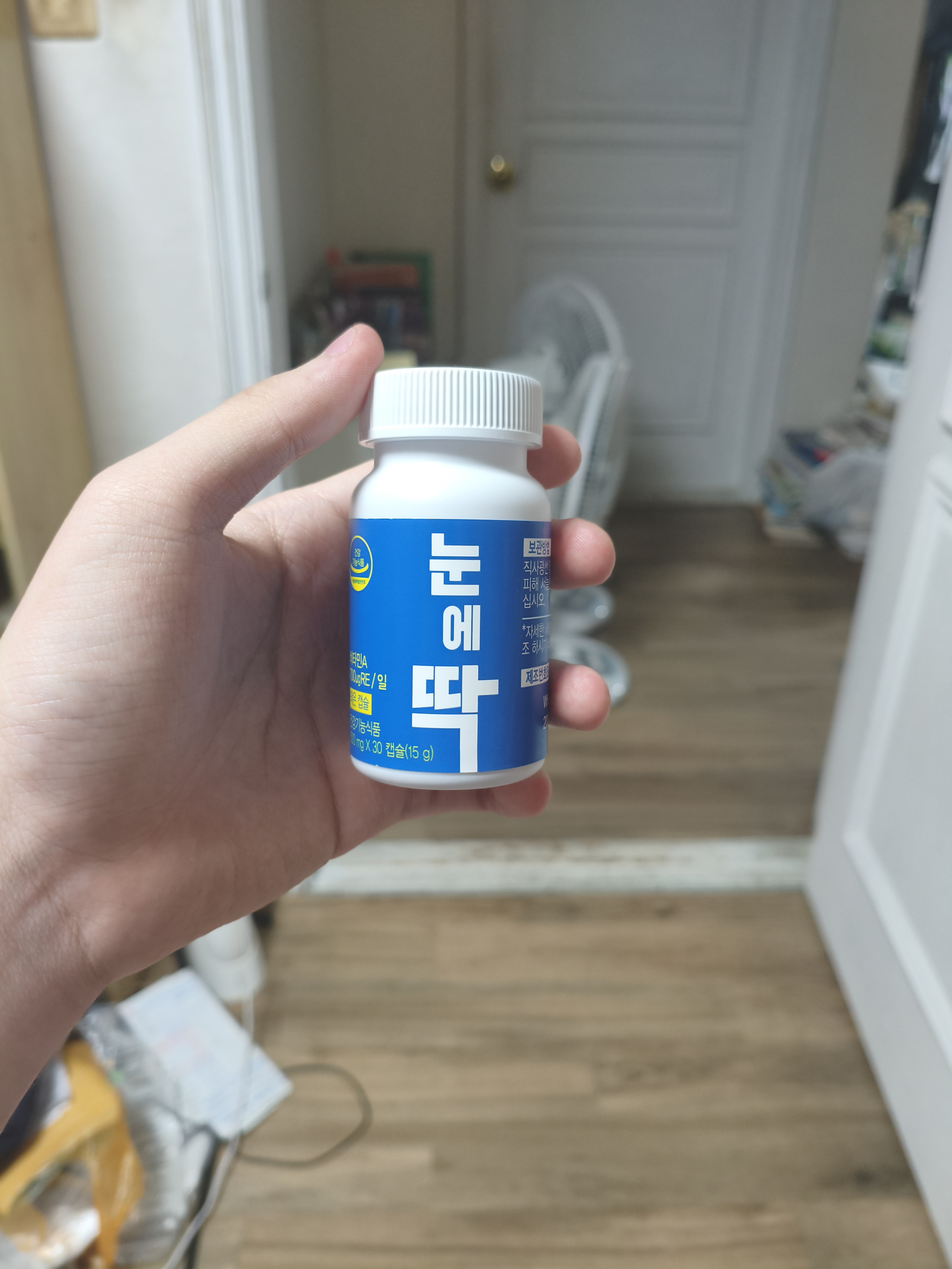supplement_label: (337, 505, 558, 777)
